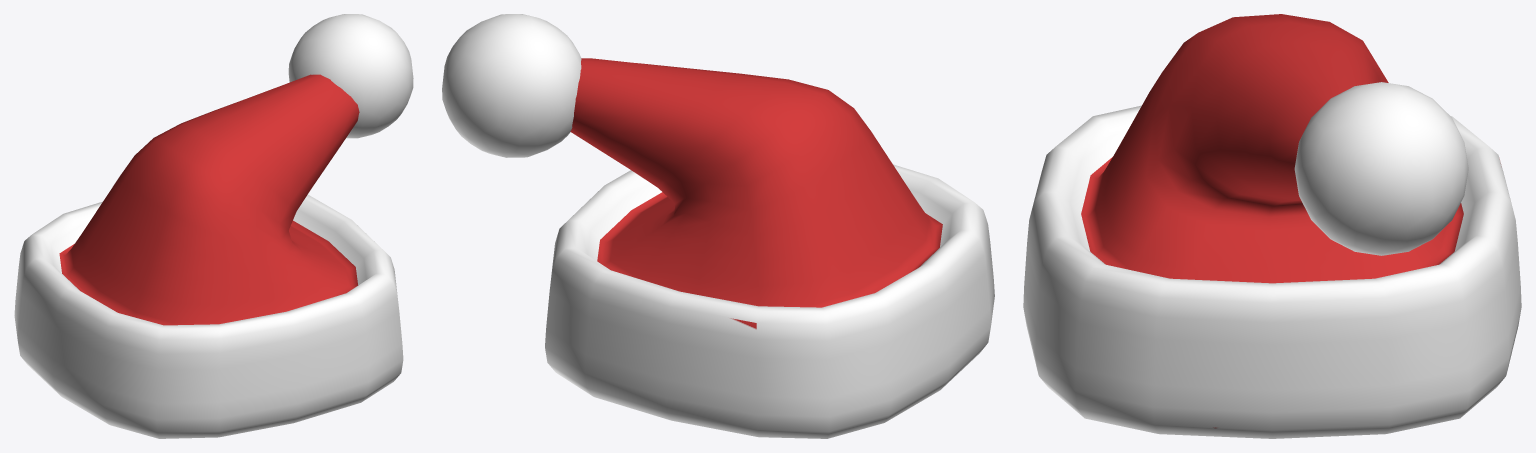
Rendered from santaHat.fbx.
3 renders of one model, left to right at view 1: azimuth 30°, elevation 25°; view 2: azimuth 150°, elevation 25°; view 3: azimuth 270°, elevation 25°, orthographic. The views are drawn at different scales.
Visible parts, largest first — view 1: hat; view 2: hat; view 3: hat.
Part boxes in pixels (x1,y1,x2,y2): hat: (14, 14, 413, 438); hat: (442, 14, 994, 438); hat: (1023, 14, 1521, 438).
Size of the model in its own units: 346 by 229 by 275.
1 material, 1 textured.
